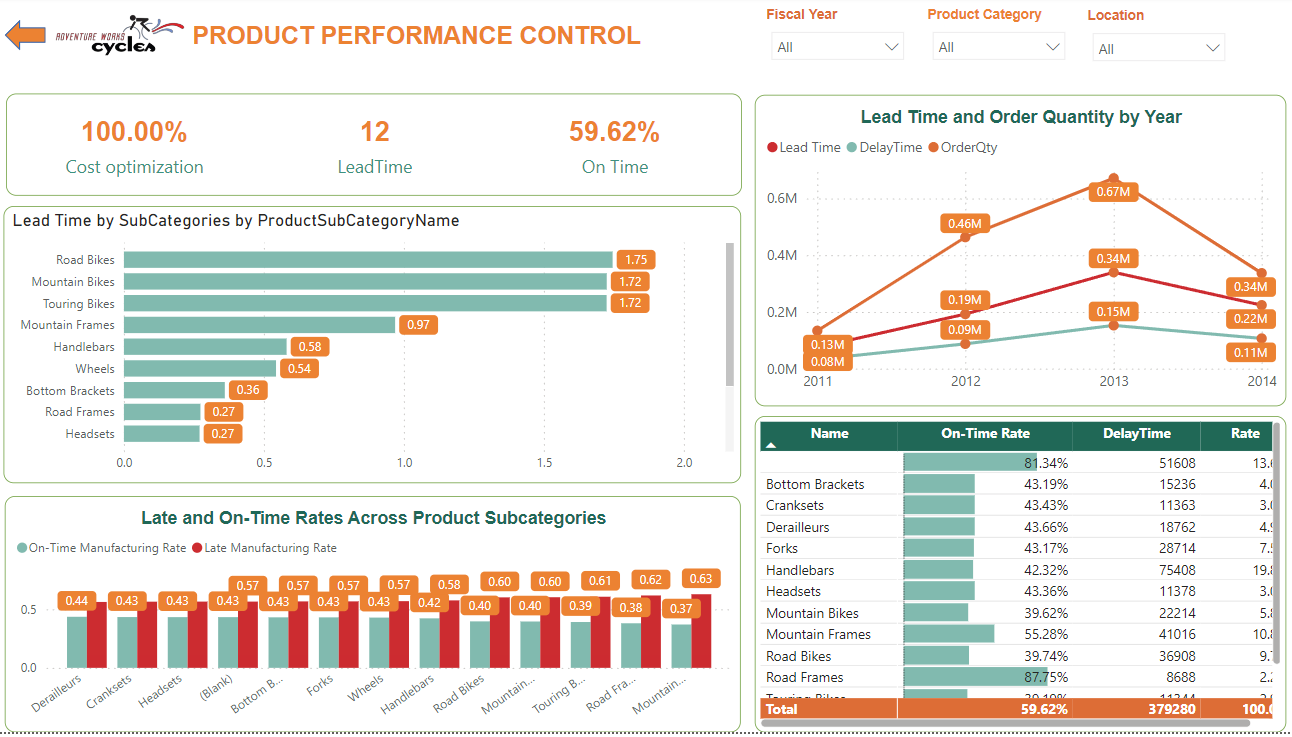

What the dashboard file says about the page in this screenshot:
{"tool":"powerbi","page":{"name":"Product Performance Control","canvas":[1280,720],"ordinal":3},"visuals":[{"type":"cardVisual","title":"overview","fields":{"Data":["DAX.Cost optimization","DAX.LeadTime","DAX.OnTimeProductionPercent"]},"box":[14.3,95.7,720,100],"z":0},{"type":"lineChart","title":"Lead Time and Order Quantity by Year","fields":{"Category":["Calendar.Date.Variation.Date Hierarchy.Year"],"Y":["Sum(DW Fact_Manufacturing.Lead_Time)","Sum(DW Fact_Manufacturing.DelayTime)","Sum(DW Fact_Manufacturing.OrderQty)"]},"box":[747.2,96.6,519.7,304.5],"z":1000},{"type":"image","title":"logo","box":[57.2,0.4,138.6,80],"z":1500,"group":"g1"},{"type":"textbox","title":"title","box":[191.2,20.9,467.5,59.8],"z":1750,"group":"g1"},{"type":"clusteredColumnChart","title":"Late and On-Time Rates Across Product Subcategories","fields":{"Category":["DW Dim_Product.ProductSubCategoryName"],"Y":["DAX.On-Time Manufacturing Rate","DAX.Late Manufacturing Rate"]},"box":[13.5,467.1,720.2,243.3],"z":2000},{"type":"clusteredBarChart","title":"Average Lead Time (day) by Product SubCategories","fields":{"Y":["DAX.Lead Time by SubCategories"],"Category":["DW Dim_Product.ProductSubCategoryName"]},"box":[12.2,217.7,721.5,249.5],"z":3000},{"type":"pivotTable","title":"detail","fields":{"Values":["DAX.On-Time Production Rate","Sum(DW Fact_Manufacturing.DelayTime)","Sum(DW Fact_Manufacturing.Rate)"],"Rows":["DW Dim_Product.ProductSubCategoryName"]},"box":[747.2,410.9,519.7,299.6],"z":4000},{"type":"group","id":"g1","title":"header","box":[12.9,0,1209,80.7],"z":5000},{"type":"slicer","title":"Product Category","fields":{"Values":["DW Dim_Product.ProductCategoryName"]},"box":[904.7,0,160,70],"z":5000,"group":"g2"},{"type":"slicer","title":"Location","fields":{"Values":["DW Dim_Location.LocationName"]},"box":[1061.9,1.4,160,70],"z":6000,"group":"g2"},{"type":"group","id":"g2","title":"filter","box":[747.6,0,474.3,71.4],"z":8001,"group":"g1"},{"type":"shape","title":"back","box":[12.9,22.9,40,30],"z":8251,"group":"g1"},{"type":"slicer","title":"Fiscal Year","fields":{"Values":["Calendar.Fiscal Year"]},"box":[747.6,0,160,70],"z":11000,"group":"g2"}]}

Visuals, with their boxes in screenshot pixels (x1, y1, x2, y2), scaled from the page's 1280x720 canvas onto the 1292x737 screenshot:
"overview" cardVisual: (left=14, top=98, right=741, bottom=200)
"Lead Time and Order Quantity by Year" lineChart: (left=754, top=99, right=1279, bottom=411)
"logo" image: (left=58, top=0, right=198, bottom=82)
"title" textbox: (left=193, top=21, right=665, bottom=83)
"Late and On-Time Rates Across Product Subcategories" clusteredColumnChart: (left=14, top=478, right=741, bottom=727)
"Average Lead Time (day) by Product SubCategories" clusteredBarChart: (left=12, top=223, right=741, bottom=478)
"detail" pivotTable: (left=754, top=421, right=1279, bottom=727)
"header" group: (left=13, top=0, right=1233, bottom=83)
"Product Category" slicer: (left=913, top=0, right=1075, bottom=72)
"Location" slicer: (left=1072, top=1, right=1233, bottom=73)
"filter" group: (left=755, top=0, right=1233, bottom=73)
"back" shape: (left=13, top=23, right=53, bottom=54)
"Fiscal Year" slicer: (left=755, top=0, right=916, bottom=72)
